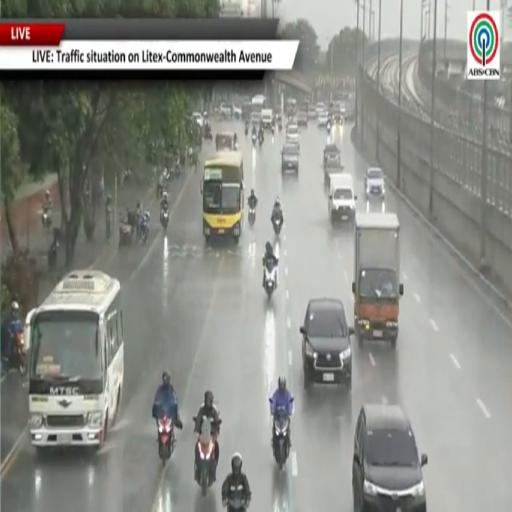bus: (25, 269, 124, 449), (201, 151, 244, 243), (251, 94, 266, 124), (285, 99, 297, 117)
car: (352, 405, 428, 511), (300, 298, 354, 388), (365, 167, 384, 200), (282, 143, 299, 172), (323, 144, 342, 168), (286, 123, 299, 146), (220, 103, 232, 119), (297, 110, 308, 126), (192, 112, 203, 127), (317, 111, 328, 126), (307, 104, 317, 120), (233, 105, 242, 119), (316, 103, 326, 115), (340, 103, 346, 117)
motorcycle: (195, 416, 216, 495), (273, 408, 290, 469), (158, 416, 175, 463), (223, 484, 249, 511), (15, 332, 26, 375), (264, 262, 277, 298), (47, 239, 59, 270), (119, 223, 133, 247), (140, 214, 149, 244), (42, 211, 52, 231), (106, 208, 112, 239), (272, 217, 282, 235), (161, 208, 169, 230), (204, 126, 212, 141), (249, 207, 255, 226), (252, 133, 257, 145), (327, 122, 331, 133), (259, 136, 263, 147), (271, 124, 275, 135), (278, 122, 282, 132), (245, 124, 248, 136)
truck: (352, 213, 403, 348), (328, 173, 356, 223)
